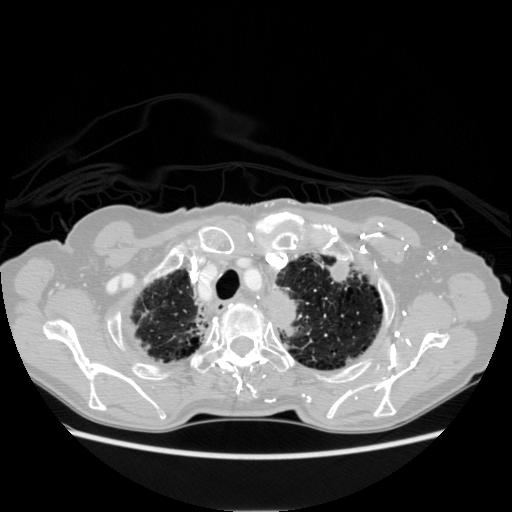nodule: (326, 258, 352, 284)
